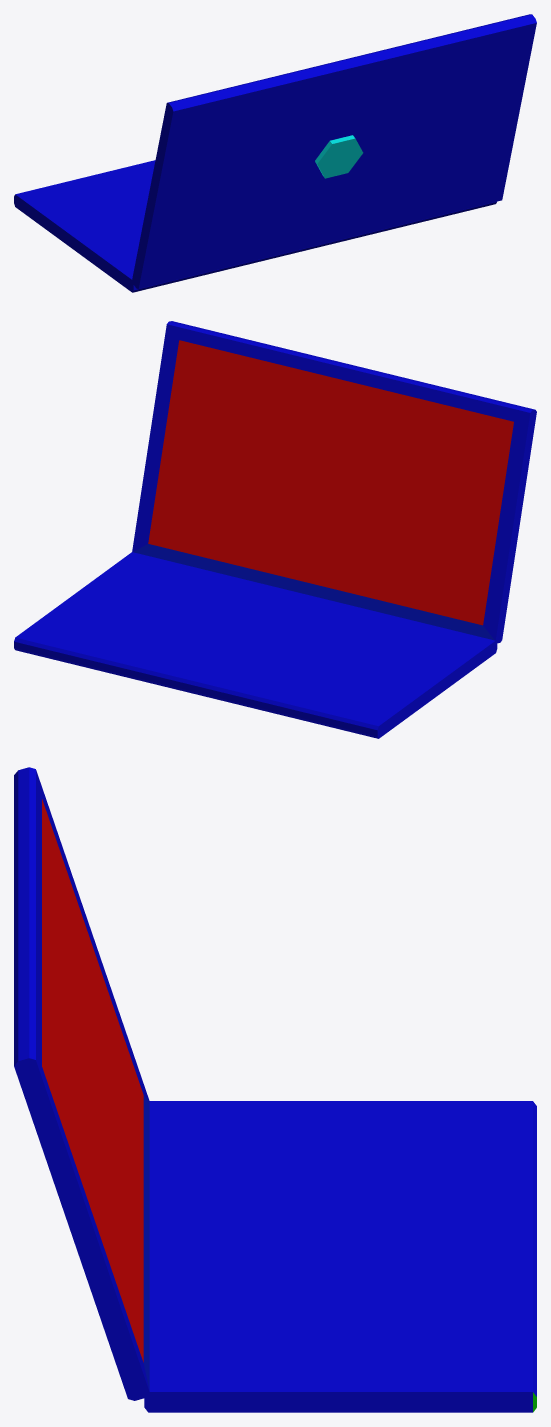
File: Laptop.fbx
3 renders of one model, top to bottom at view 1: azimuth 30°, elevation 25°; view 2: azimuth 150°, elevation 25°; view 3: azimuth 270°, elevation 25°, orthographic. The views are drawn at different scales.
Parts seen in each view (by area): view 1: Laptop; view 2: Laptop; view 3: Laptop.
Part boxes in pixels (left/top/right/bottom): Laptop: left=14, top=14, right=536, bottom=292; Laptop: left=14, top=321, right=536, bottom=738; Laptop: left=14, top=767, right=536, bottom=1412.
Size of the model in its own units: 116 by 65.95 by 88.15.
